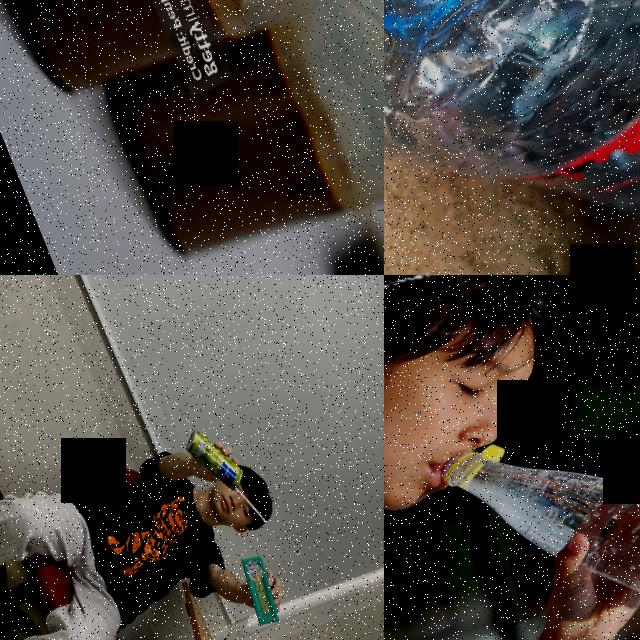bottle: (93, 0, 384, 275), (384, 0, 640, 275), (428, 362, 640, 640), (0, 0, 384, 119)
can: (178, 418, 248, 502)
